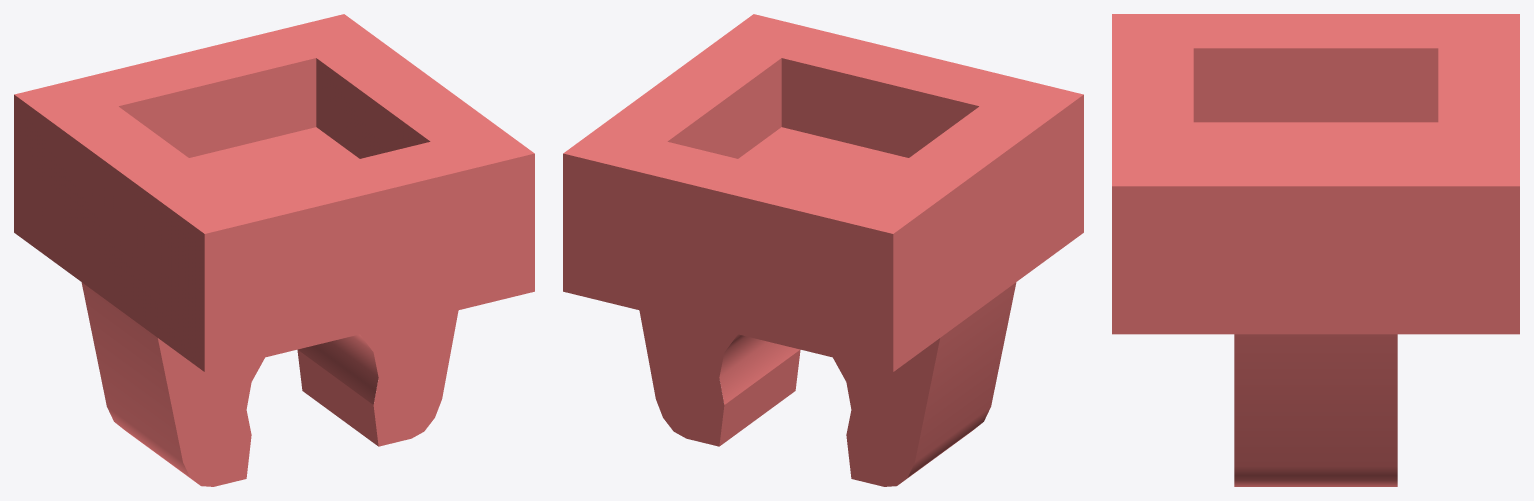
3 renders of one model, left to right at view 1: azimuth 30°, elevation 25°; view 2: azimuth 150°, elevation 25°; view 3: azimuth 270°, elevation 25°, orthographic. The views are drawn at different scales.
Parts seen in each view (by area): view 1: LDrawPart; view 2: LDrawPart; view 3: LDrawPart.
Part boxes in pixels (box(x1,y1,x2,y2)): LDrawPart: box(14, 14, 534, 486); LDrawPart: box(563, 14, 1083, 486); LDrawPart: box(1112, 14, 1519, 486).
Bounding box in the file's own units: 0.14 × 0.126 × 0.14.
